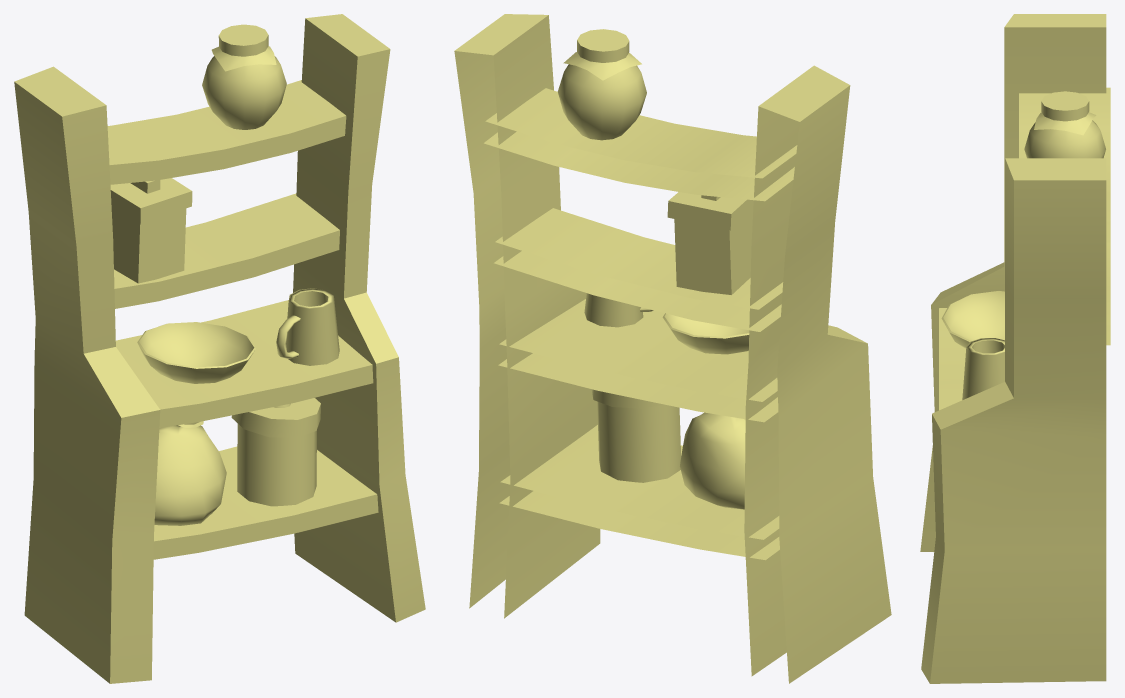
The model's file is cupboard_Lv2.fbx.
The picture shows the model from 3 angles, left to right: view 1: azimuth 30°, elevation 25°; view 2: azimuth 150°, elevation 25°; view 3: azimuth 270°, elevation 25°; orthographic projection. The views are drawn at different scales.
Parts seen in each view (by area): view 1: cupboard_2_low1; view 2: cupboard_2_low1; view 3: cupboard_2_low1.
Part boxes in pixels (left/top/right/bottom): cupboard_2_low1: left=14, top=14, right=425, bottom=683; cupboard_2_low1: left=454, top=14, right=891, bottom=683; cupboard_2_low1: left=920, top=14, right=1110, bottom=683.
Bounding box in the file's own units: 112 × 179 × 58.09.
